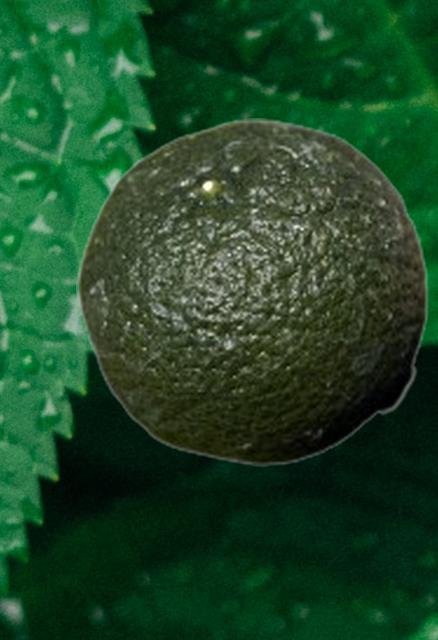calamansi: (76, 118, 428, 465)
